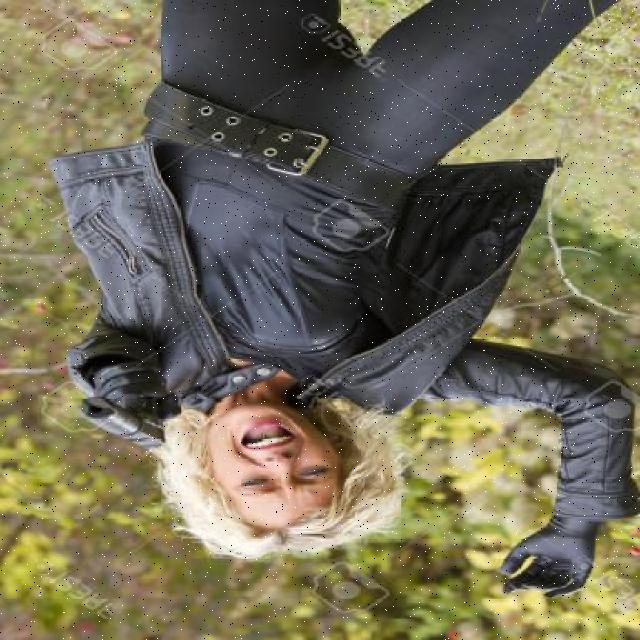gun: (63, 364, 176, 464)
